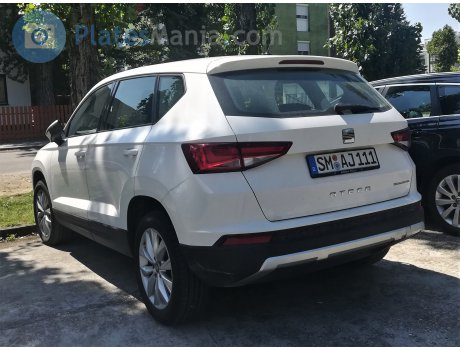License Plates: (309, 148, 380, 165)
